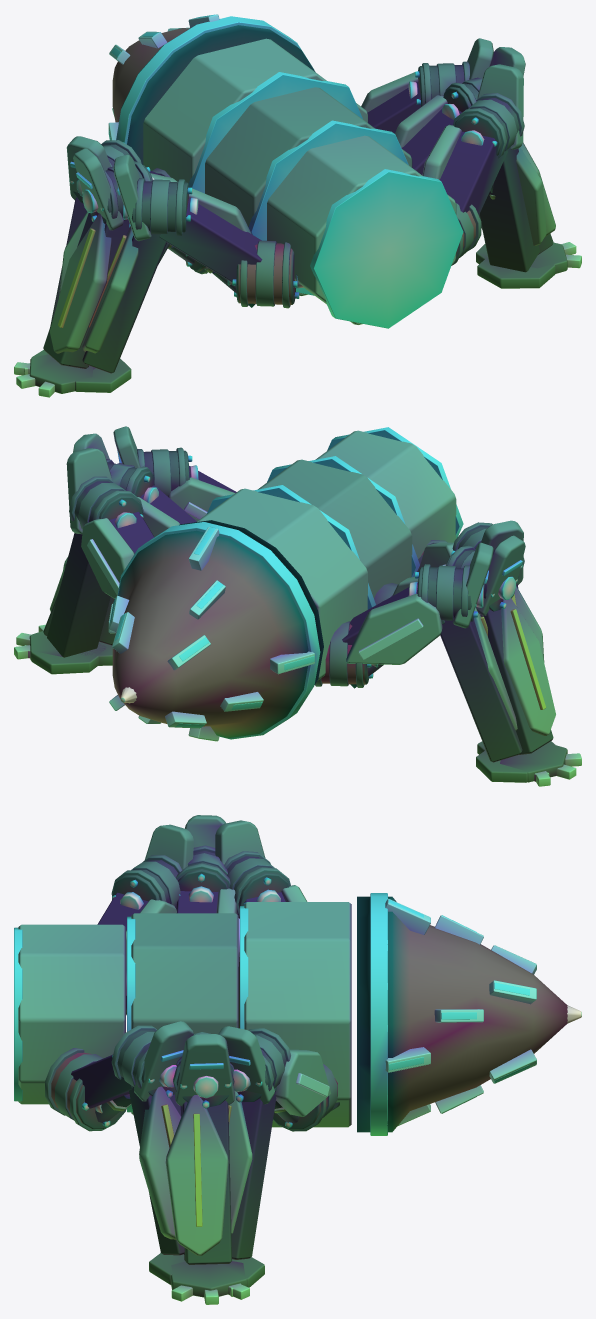
The model's file is burrower.glb.
The picture shows the model from 3 angles, top to bottom: view 1: azimuth 30°, elevation 25°; view 2: azimuth 150°, elevation 25°; view 3: azimuth 270°, elevation 25°; orthographic projection. The views are drawn at different scales.
Visible parts, largest first — view 1: Body__emit_core, Body__armor, Body__armor_sub, Spinner_Z_0__dark, Hip_5_Knee__dark, Hip_4__dark, Hip_4_Knee__dark, Hip_2_Knee__armor, Hip_5__dark, Hip_5_Knee__gunmetal, Hip_4_Knee__gunmetal, Spinner_Z_0__emit_core (+30 smaller); view 2: Spinner_Z_0__dark, Body__armor, Body__armor_sub, Hip_0_Knee__dark, Hip_1_Knee__dark, Spinner_Z_0__emit_core, Spinner_Z_0__chrome, Hip_0__armor, Hip_2_Knee__armor, Body__emit_core, Hip_1_Knee__gunmetal, Hip_0_Knee__gunmetal (+28 smaller); view 3: Body__armor, Spinner_Z_0__dark, Body__armor_sub, Hip_3_Knee__armor, Spinner_Z_0__emit_core, Spinner_Z_0__chrome, Hip_1_Knee__dark, Hip_5_Knee__armor, Body__emit_core, Hip_5__dark, Hip_3_Knee__armor_sub, Hip_3_Knee__dark (+23 smaller).
Part boxes in pixels (<box>): Body__emit_core: <box>188,72,463,328</box>; Body__armor: <box>143,38,456,324</box>; Body__armor_sub: <box>205,87,412,295</box>; Spinner_Z_0__dark: <box>112,25,315,164</box>; Hip_5_Knee__dark: <box>454,98,539,272</box>; Hip_4__dark: <box>159,198,296,307</box>; Hip_4_Knee__dark: <box>82,181,189,373</box>; Hip_2_Knee__armor: <box>49,213,111,353</box>; Hip_5__dark: <box>440,131,507,253</box>; Hip_5_Knee__gunmetal: <box>453,93,555,288</box>; Hip_4_Knee__gunmetal: <box>75,178,185,392</box>; Spinner_Z_0__emit_core: <box>108,14,314,144</box>; Spinner_Z_0__dark: <box>112,520,323,738</box>; Body__armor: <box>196,430,456,680</box>; Body__armor_sub: <box>258,459,412,597</box>; Hip_0_Knee__dark: <box>417,567,522,762</box>; Hip_1_Knee__dark: <box>47,481,143,657</box>; Spinner_Z_0__emit_core: <box>110,522,320,741</box>; Spinner_Z_0__chrome: <box>108,526,314,741</box>; Hip_0__armor: <box>346,594,442,664</box>; Hip_2_Knee__armor: <box>501,598,555,735</box>; Body__emit_core: <box>207,427,463,609</box>; Hip_1_Knee__gunmetal: <box>31,476,143,674</box>; Hip_0_Knee__gunmetal: <box>421,564,527,782</box>; Body__armor: <box>18,902,351,1127</box>; Spinner_Z_0__dark: <box>357,896,567,1132</box>; Body__armor_sub: <box>131,913,238,1114</box>; Hip_3_Knee__armor: <box>165,1095,228,1255</box>; Spinner_Z_0__emit_core: <box>370,893,529,1135</box>; Spinner_Z_0__chrome: <box>385,899,581,1125</box>; Hip_1_Knee__dark: <box>231,1033,286,1259</box>; Hip_5_Knee__armor: <box>139,1086,181,1239</box>; Body__emit_core: <box>14,906,248,1112</box>; Hip_5__dark: <box>51,1052,132,1129</box>; Hip_3_Knee__armor_sub: <box>174,1034,235,1106</box>; Hip_3_Knee__dark: <box>176,1061,234,1264</box>.
Bounding box in the file's own units: 2.55 × 1.07 × 2.11.
